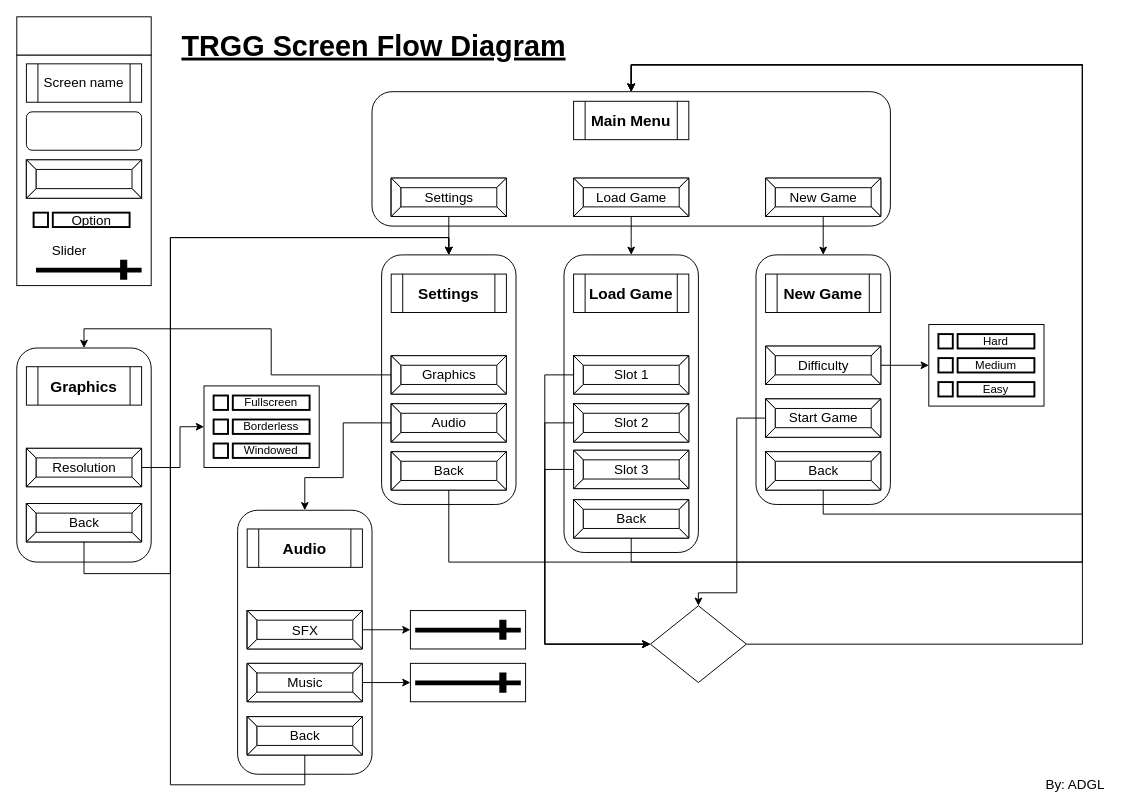
This 1138x810 diagram has some shape labels left out. The centre of each missing label's shape, as x and y in pixels:
"Button" goes at pixel 83 178.
"Gameplay" goes at pixel 697 644.
"Legend" goes at pixel 83 35.
"New Screen" goes at pixel 83 130.
